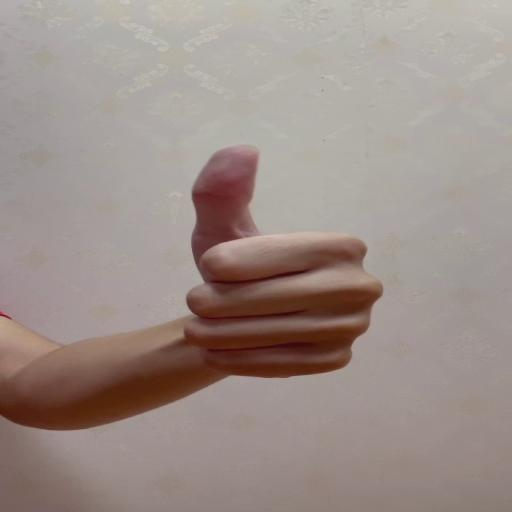thumbs_up: (178, 141, 387, 378)
